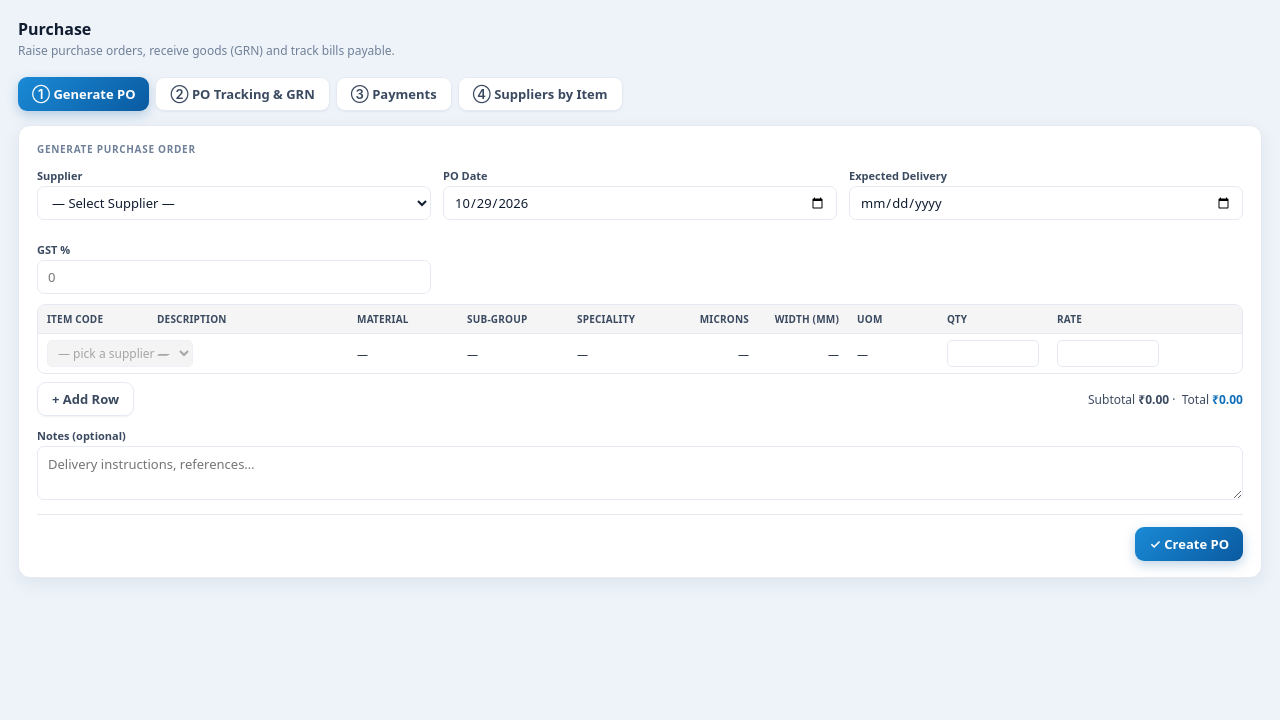
Test: PU2 — the GRN reference is the stores desk’s, never typed › with two GRNs selects neither, and lists both
Click the button "② PO Tracking & GRN" at point(243, 94), box [156,77,330,111]
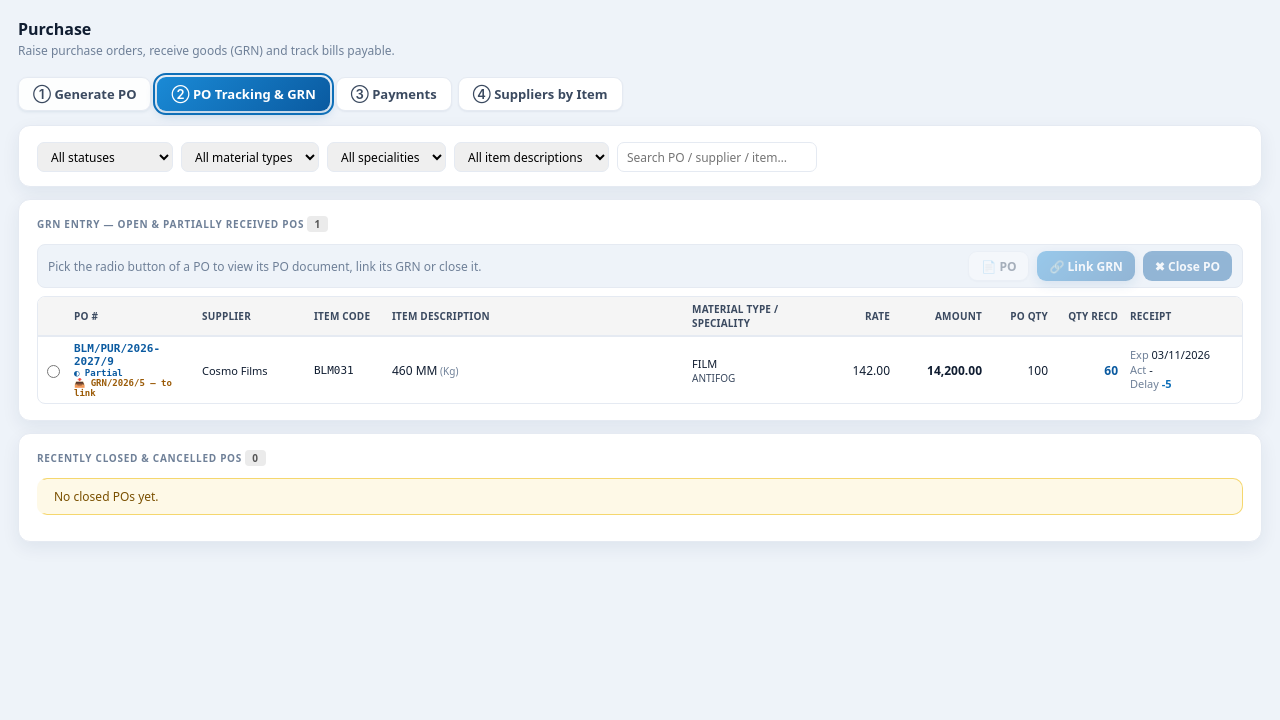
Click the radio button named "Select PO BLM/PUR/2026-2027/9" at point(53, 371), box [46,365,60,378]
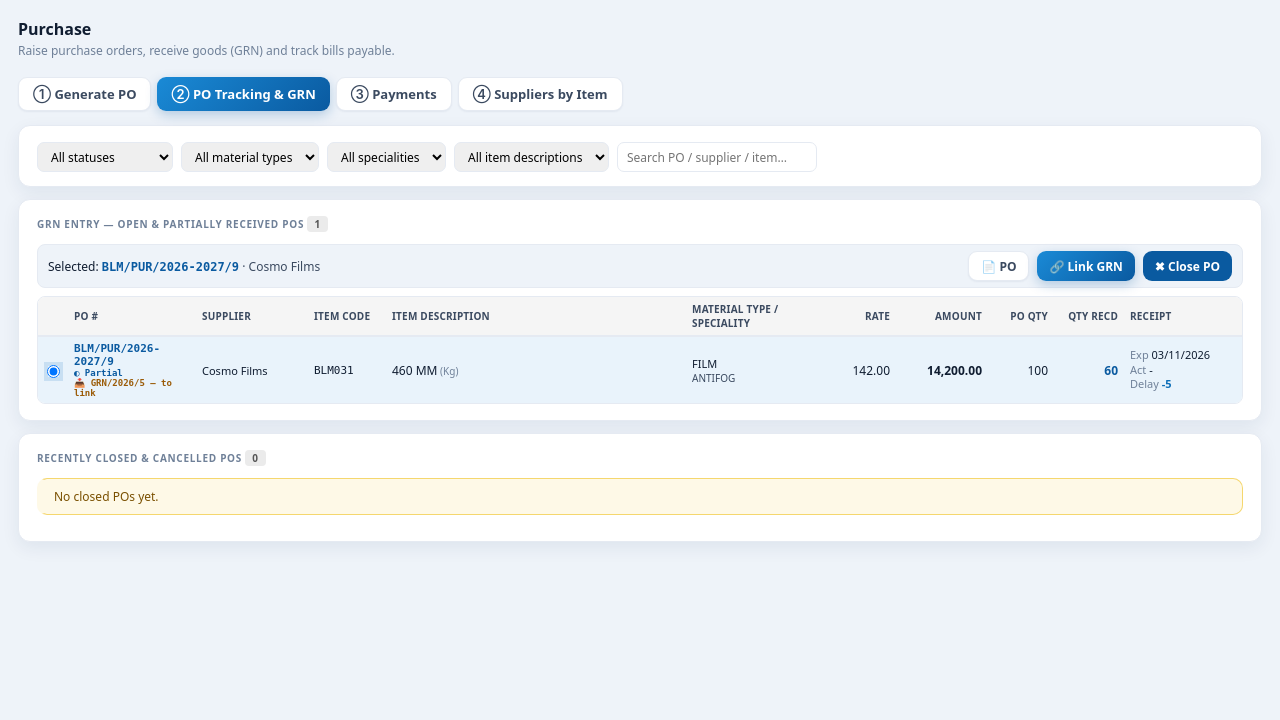
Click the button "🔗 Link GRN" at point(1086, 266), box [1038,251,1135,281]
(page scrolled)
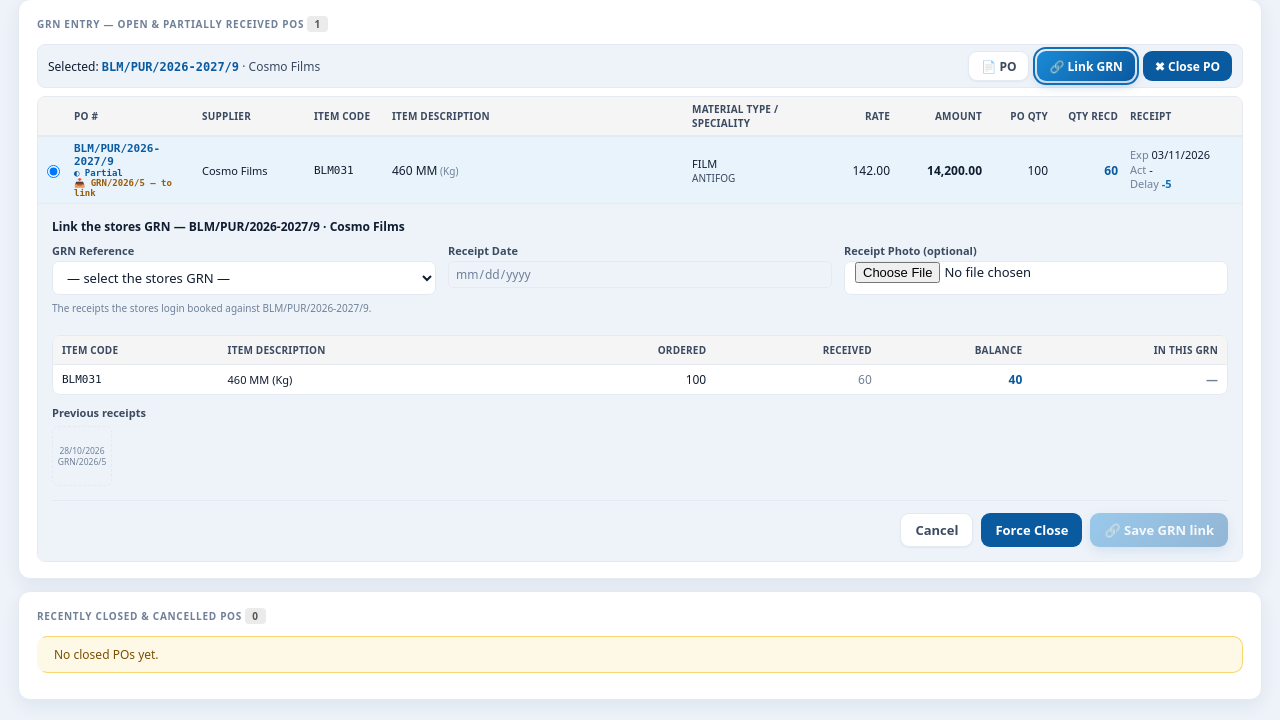
Expected: the dropdown named "GRN Reference" shows "— select the stores GRN —", [52,261,436,295]
Expected: the button "🔗 Save GRN link" is disabled, [1090,513,1228,547]
